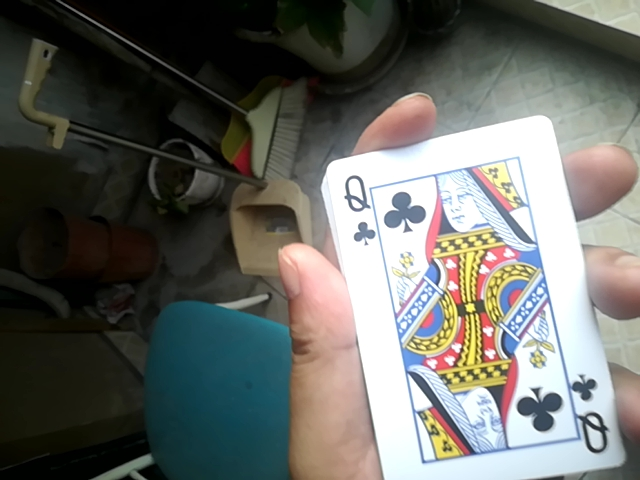mh q: (335, 103, 630, 480)
